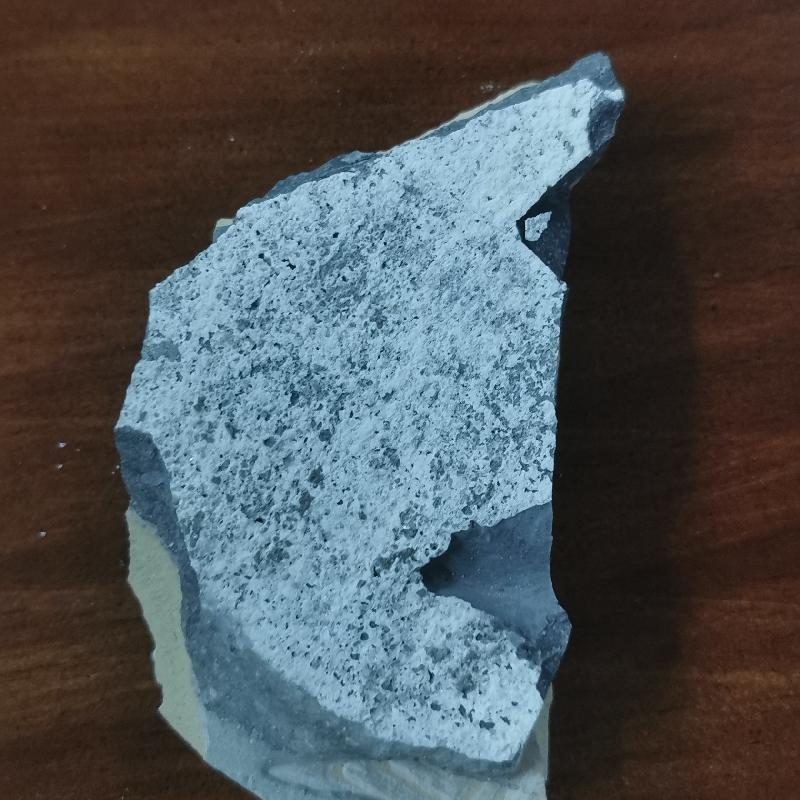tile: (118, 50, 622, 799)
